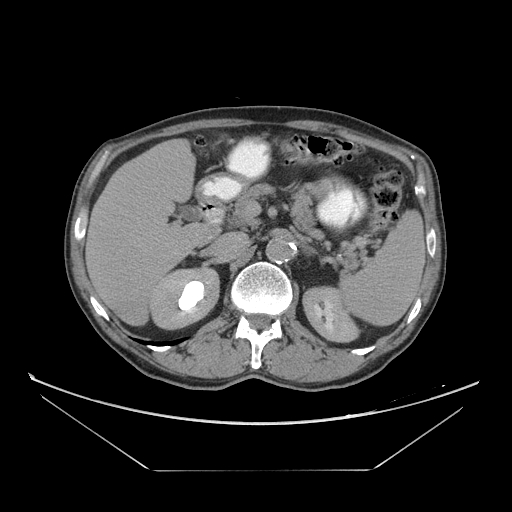left_kidney: (147, 264, 227, 331)
right_kidney: (296, 284, 363, 342)
